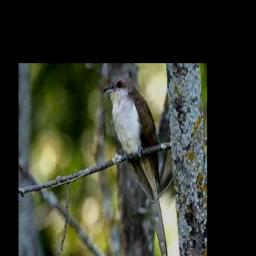Cuckoo: (101, 75, 167, 256)
